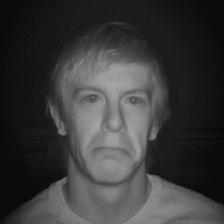sad: (41, 19, 169, 192)
